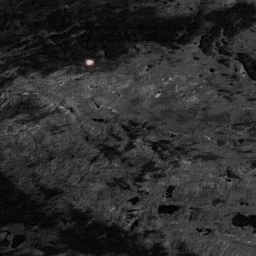Target: (84, 58, 95, 68)
